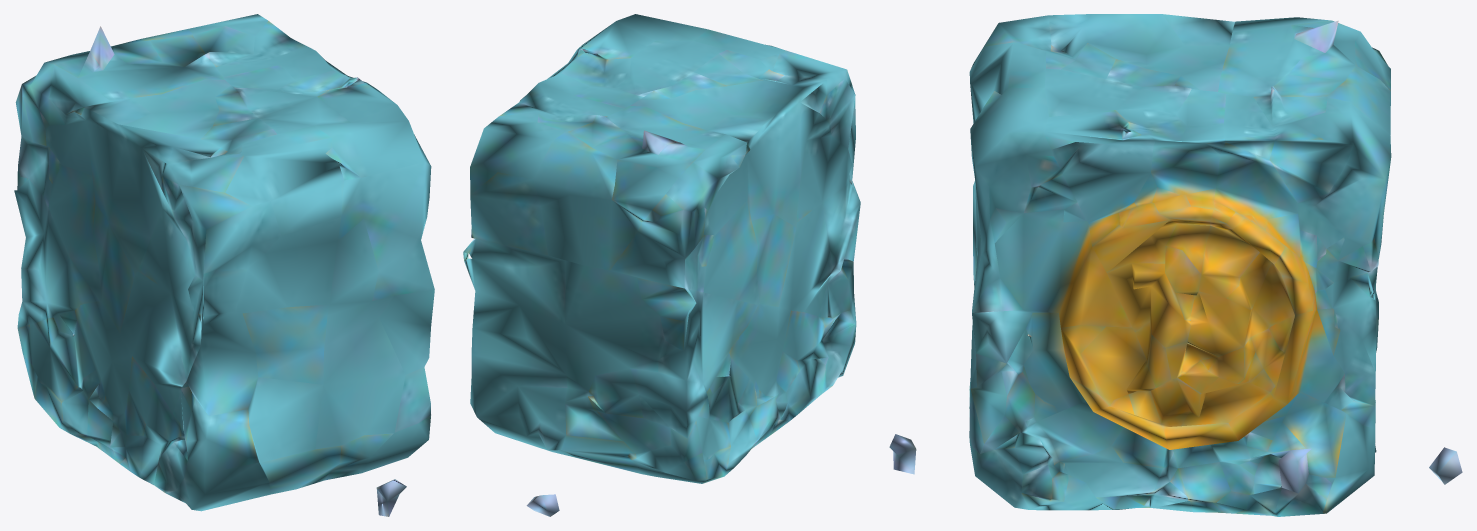
File: item-box-pv-ice.glb
3 views of the same model, side by side, from view 1: azimuth 30°, elevation 25°; view 2: azimuth 150°, elevation 25°; view 3: azimuth 270°, elevation 25° (orthographic). The views are drawn at different scales.
Parts seen in each view (by area): view 1: tripo_node_fb191613-56dd-416c-bf8c-d2723025747c; view 2: tripo_node_fb191613-56dd-416c-bf8c-d2723025747c; view 3: tripo_node_fb191613-56dd-416c-bf8c-d2723025747c.
Boxes of the visible parts, left/top/right/bottom form: tripo_node_fb191613-56dd-416c-bf8c-d2723025747c: left=14, top=14, right=434, bottom=516; tripo_node_fb191613-56dd-416c-bf8c-d2723025747c: left=463, top=14, right=860, bottom=516; tripo_node_fb191613-56dd-416c-bf8c-d2723025747c: left=889, top=14, right=1462, bottom=516.
Bounding box in the file's own units: 0.5774 × 0.8058 × 0.9699.
1 material, 1 textured.
